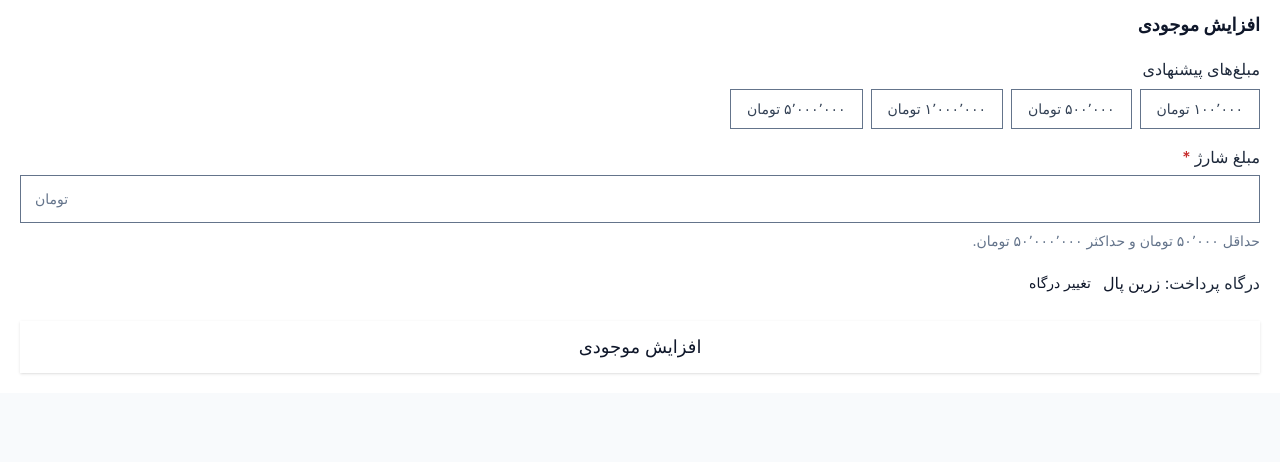
Test: a top-up answered with an unusable handoff › the bank-unavailable sentence; no pending top-up, no bank
Type "100000" into the field labelled "مبلغ شارژ *".
click(664, 199); type("100000")  # box [68,176,1259,222]
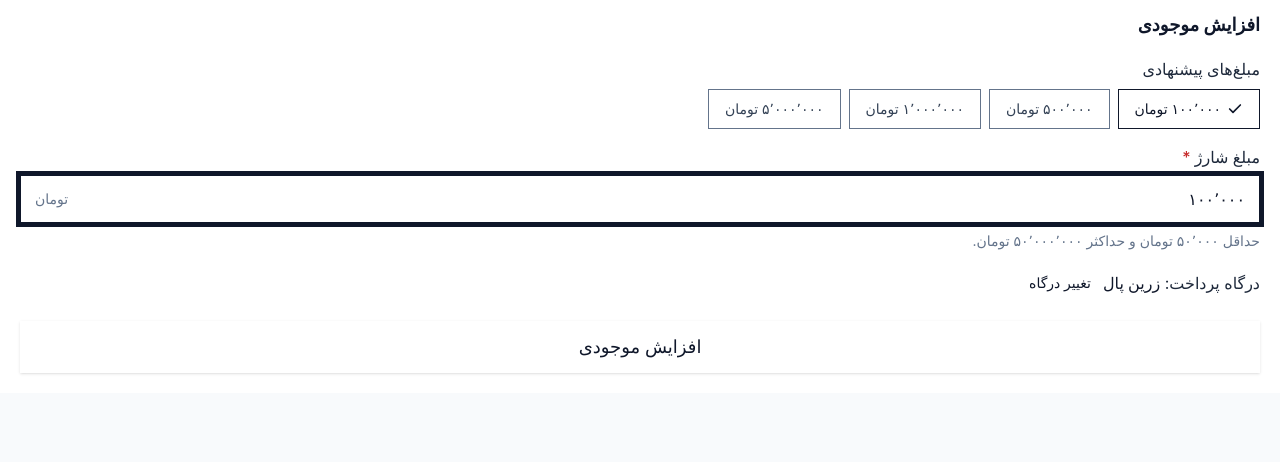
Click the button "افزایش موجودی".
click(640, 347)  # box [20,321,1260,373]
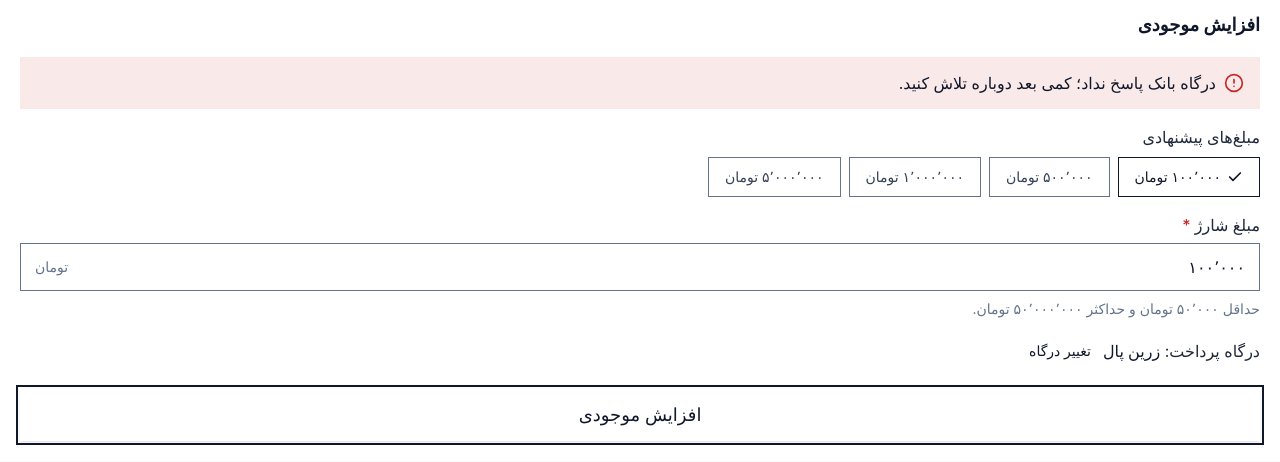
Now the message reads "درگاه بانک پاسخ نداد؛ کمی بعد دوباره تلاش کنید.", box [899,73,1216,93]
